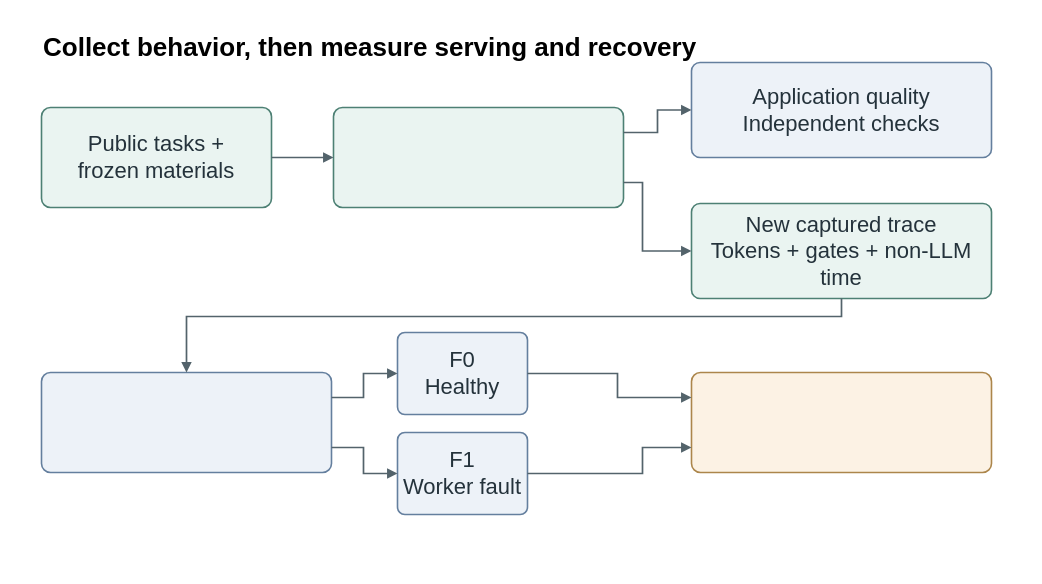
This 1042x584 diagram has some shape labels left out. The shapes that lost their labels are listed below. From the top down, each one's centre as x and y in pixels, then its label:
At point (478, 157): "Real model execution DAG + full Agent histories".
At point (186, 422): "Dependency-gated replay Same arrivals / inputs / budget".
At point (841, 422): "Paired job WCT Cost + recovery + interference".
